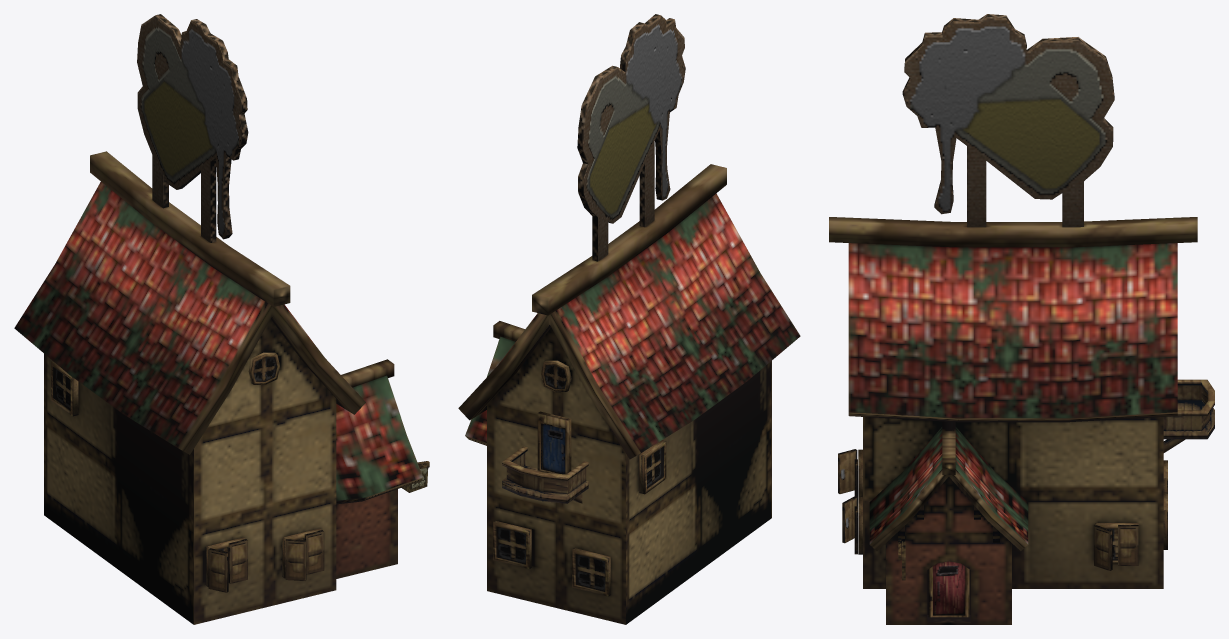
File: Pub.fbx
3 renders of one model, left to right at view 1: azimuth 30°, elevation 25°; view 2: azimuth 150°, elevation 25°; view 3: azimuth 270°, elevation 25°, orthographic. The views are drawn at different scales.
Parts seen in each view (by area): view 1: Cube.022, Cube.023, Plane.006, Cube.018, Cube.024, Cube.017, HouseWindow.011, HouseWindow.002Doors.003, HouseWindow.002Doors.005, HouseWindow.008, HouseWindow.002Doors.004, Cube.020 (+1 smaller); view 2: Cube.022, Cube.023, Plane.006, Cube.024, Balcony.001, HouseDoor.004, HouseWindow.005, HouseWindow.006, HouseWindow.011, Cube.018, HouseWindow.007; view 3: Cube.023, Plane.006, Cube.022, Cube.017, Cube.024, Cube.018, Balcony.001, HouseDoor.005, HouseWindow.002Doors.006, HouseWindow.002Doors.007, Cube.020, HouseWindow.002Doors.005 (+2 smaller).
Boxes of the visible parts, bbox=[...] form: Cube.022: bbox=[44, 319, 336, 624]; Cube.023: bbox=[14, 182, 365, 454]; Plane.006: bbox=[137, 14, 248, 242]; Cube.018: bbox=[336, 375, 423, 504]; Cube.024: bbox=[90, 151, 290, 306]; Cube.017: bbox=[336, 489, 397, 578]; HouseWindow.011: bbox=[51, 361, 78, 416]; HouseWindow.002Doors.003: bbox=[285, 539, 306, 580]; HouseWindow.002Doors.005: bbox=[208, 548, 228, 592]; HouseWindow.008: bbox=[248, 352, 279, 384]; HouseWindow.002Doors.004: bbox=[228, 539, 247, 583]; Cube.020: bbox=[341, 359, 394, 387]; Cube.022: bbox=[487, 327, 771, 624]; Cube.023: bbox=[458, 193, 800, 459]; Plane.006: bbox=[577, 14, 685, 261]; Cube.024: bbox=[532, 164, 726, 315]; Balcony.001: bbox=[502, 446, 588, 503]; HouseDoor.004: bbox=[537, 411, 571, 474]; HouseWindow.005: bbox=[493, 520, 531, 569]; HouseWindow.006: bbox=[572, 548, 610, 596]; HouseWindow.011: bbox=[639, 440, 666, 494]; Cube.018: bbox=[465, 336, 515, 445]; HouseWindow.007: bbox=[541, 360, 571, 392]; Cube.023: bbox=[848, 243, 1177, 422]; Plane.006: bbox=[902, 14, 1114, 227]; Cube.022: bbox=[863, 417, 1163, 588]; Cube.017: bbox=[886, 477, 1011, 624]; Cube.024: bbox=[829, 217, 1197, 247]; Cube.018: bbox=[869, 427, 1028, 550]; Balcony.001: bbox=[1163, 379, 1214, 452]; HouseDoor.005: bbox=[933, 561, 965, 615]; HouseWindow.002Doors.006: bbox=[1118, 525, 1138, 565]; HouseWindow.002Doors.007: bbox=[1094, 525, 1112, 570]; Cube.020: bbox=[942, 421, 955, 474]; HouseWindow.002Doors.005: bbox=[838, 449, 857, 493].
Size of the model in its own units: 1846 by 3423 by 2221.
